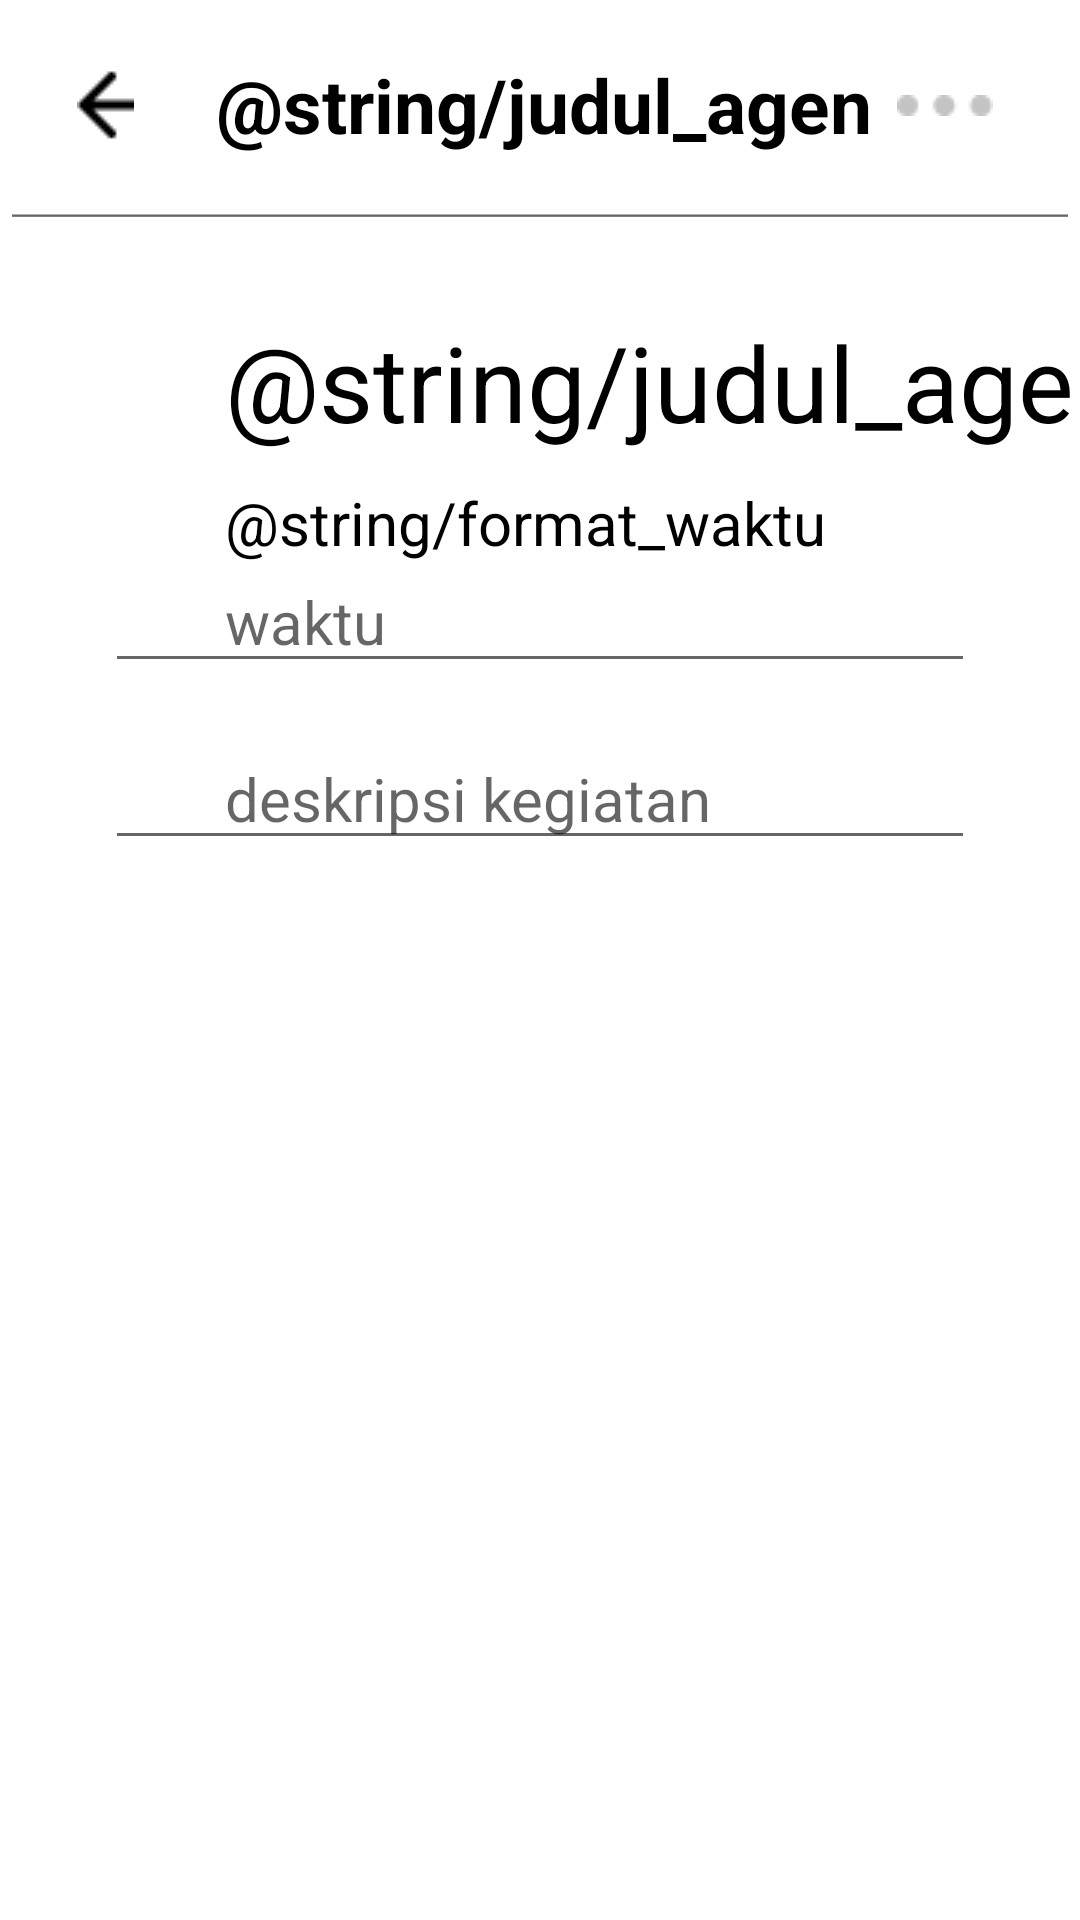

Icons on this 1080 × 1920 Android screen, each with its box as (x1, y1, x2, y2):
arrow back: (77, 71, 134, 139)
